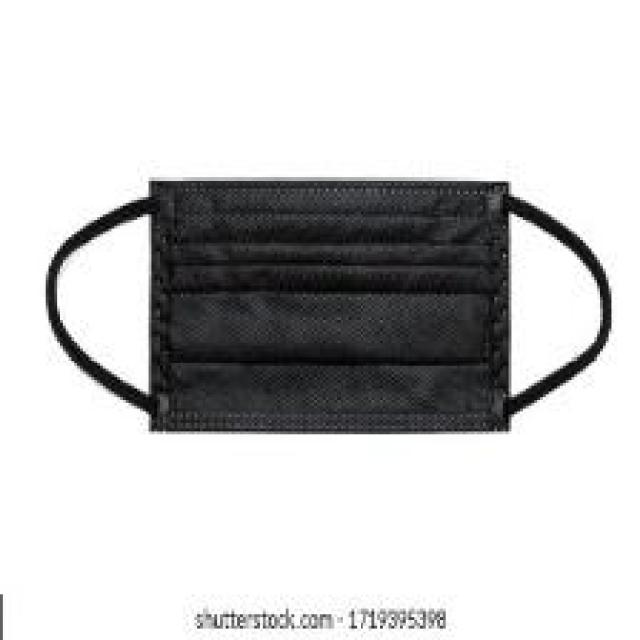Mask: (58, 130, 632, 464)
